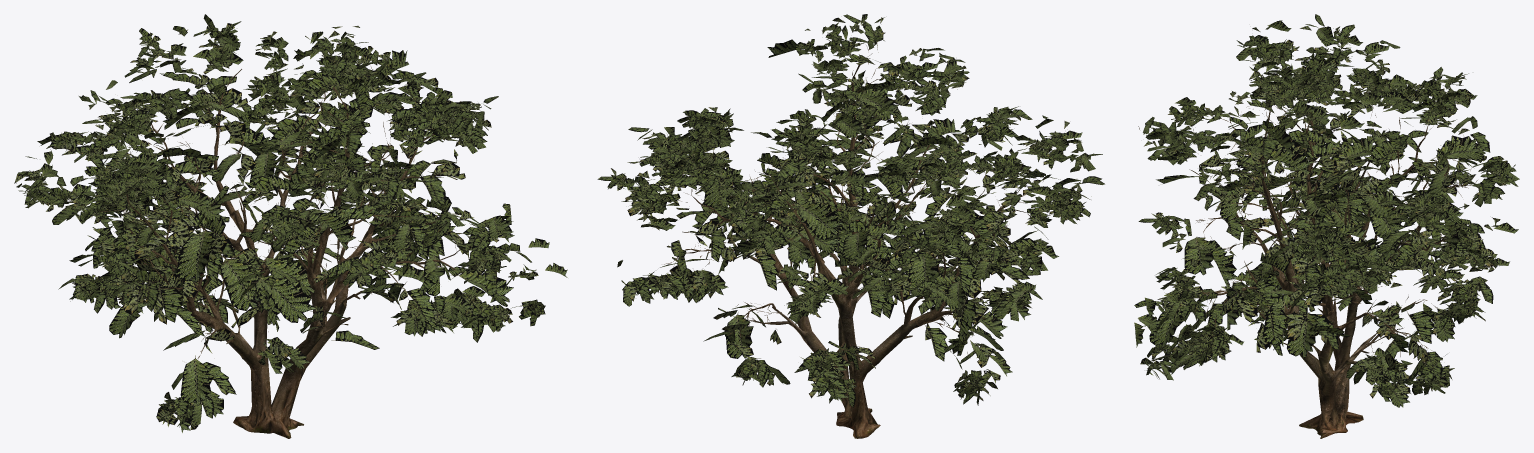
Rendered from garden_trees.glb.
3 views of the same model, side by side, from view 1: azimuth 30°, elevation 25°; view 2: azimuth 150°, elevation 25°; view 3: azimuth 270°, elevation 25° (orthographic). The views are drawn at different scales.
Parts seen in each view (by area): view 1: tree_01; view 2: tree_01; view 3: tree_01.
Part boxes in pixels (x1,y1,x2,y2): tree_01: (14, 14, 567, 438); tree_01: (597, 14, 1104, 438); tree_01: (1134, 14, 1519, 438).
Bounding box in the file's own units: 24.82 × 19.35 × 18.14.
Materials: 3 (3 with a texture image).
